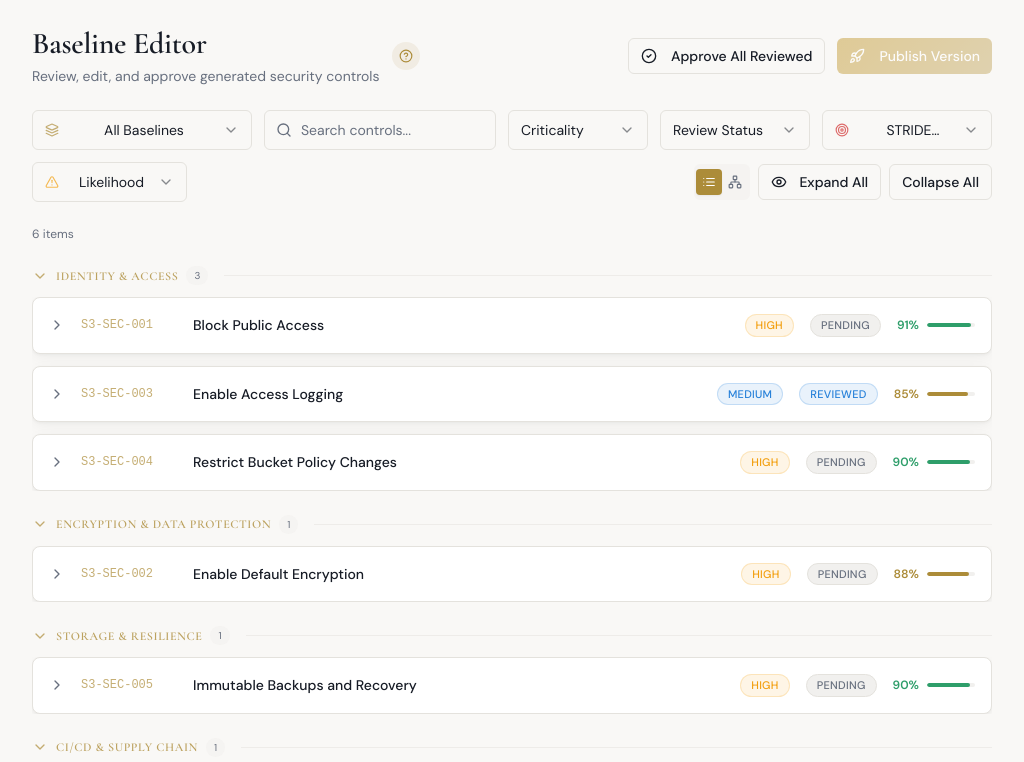
Test: BaselineEditor › Threat Modeling section › displays threat scenario names
Expected: the text "S3-SEC-001" is shown, [81,318,153,332]
Click the button "S3-SEC-001".
click(117, 325)  # box [33,298,991,352]
(page scrolled)
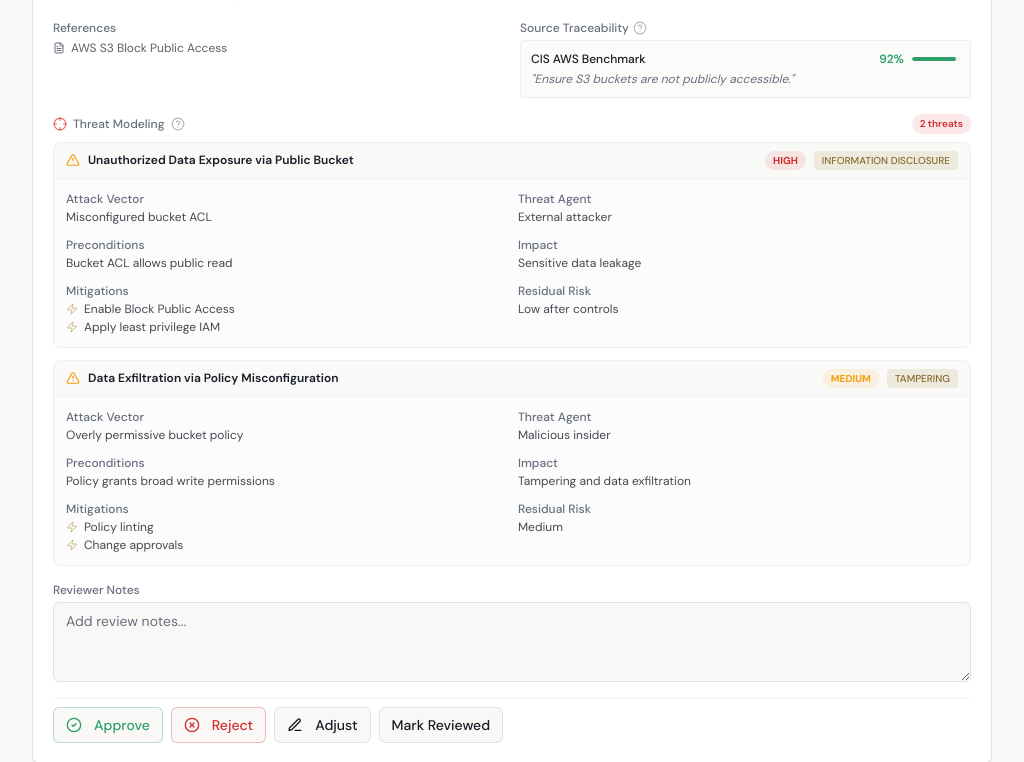
Expected: the text "Unauthorized Data Exposure via Public Bucket" is shown, [88,152,354,168]
Expected: the text "Data Exfiltration via Policy Misconfiguration" is shown, [88,370,339,386]
